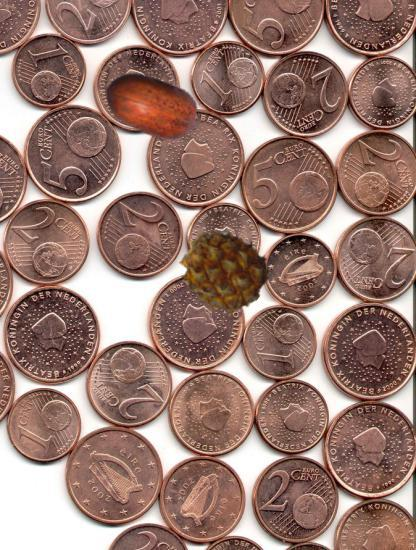Nut: (102, 57, 202, 157)
Pineapple: (179, 226, 269, 316)
